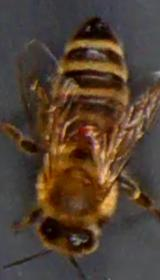varroa_mite: (71, 120, 103, 148)
